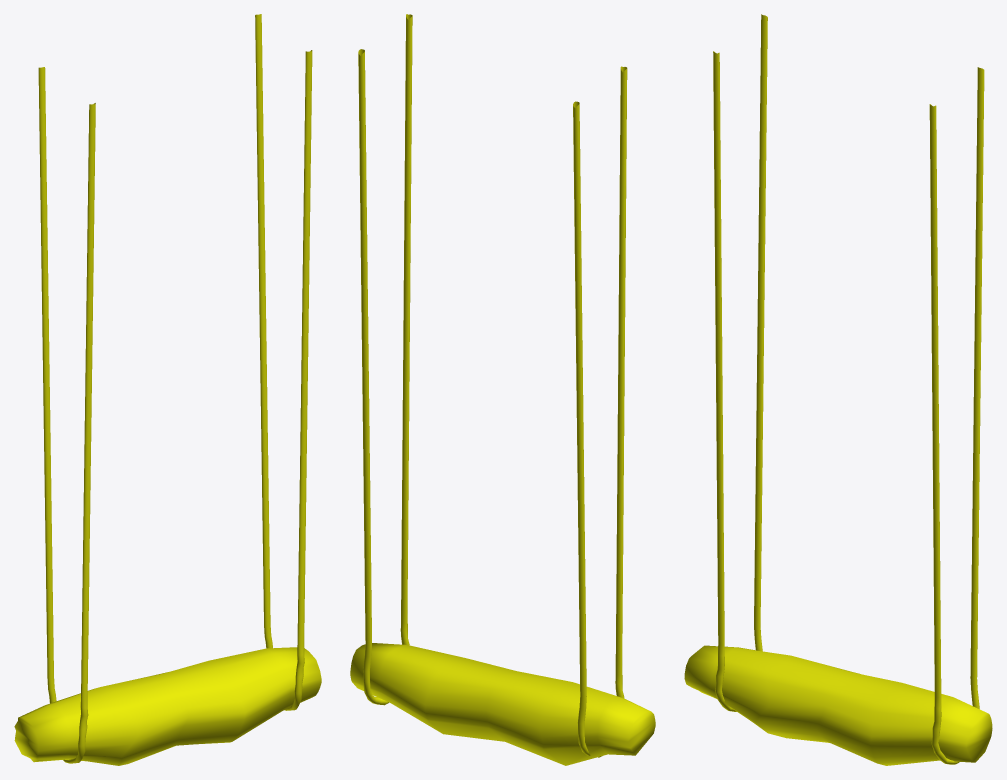
Rendered from Salame.fbx.
3 views of the same model, side by side, from view 1: azimuth 30°, elevation 25°; view 2: azimuth 150°, elevation 25°; view 3: azimuth 330°, elevation 25° (orthographic).
Parts seen in each view (by area): view 1: Cylinder; view 2: Cylinder; view 3: Cylinder.
Boxes of the visible parts, left/top/right/bottom form: Cylinder: left=14, top=14, right=321, bottom=765; Cylinder: left=350, top=14, right=655, bottom=765; Cylinder: left=684, top=14, right=992, bottom=765.
Size of the model in its own units: 2305 by 5371 by 727.
